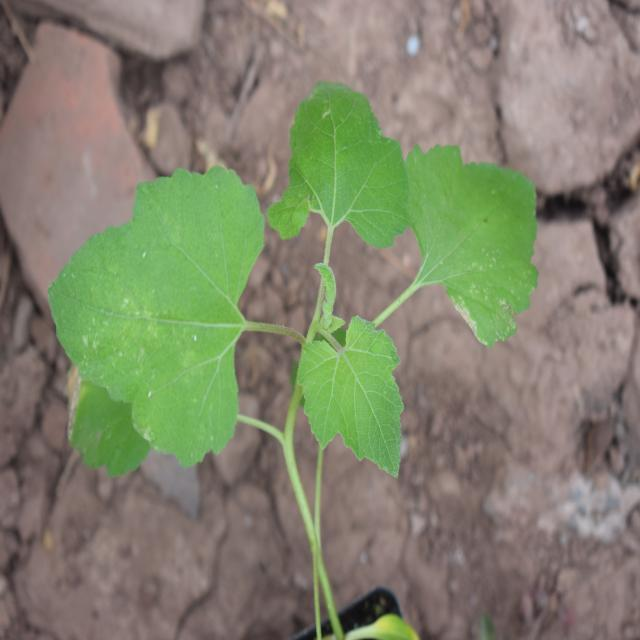cocklebur: (38, 65, 506, 490)
